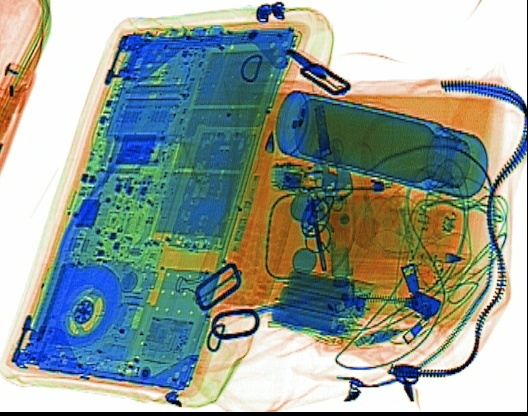powerbank: (270, 266, 375, 344)
